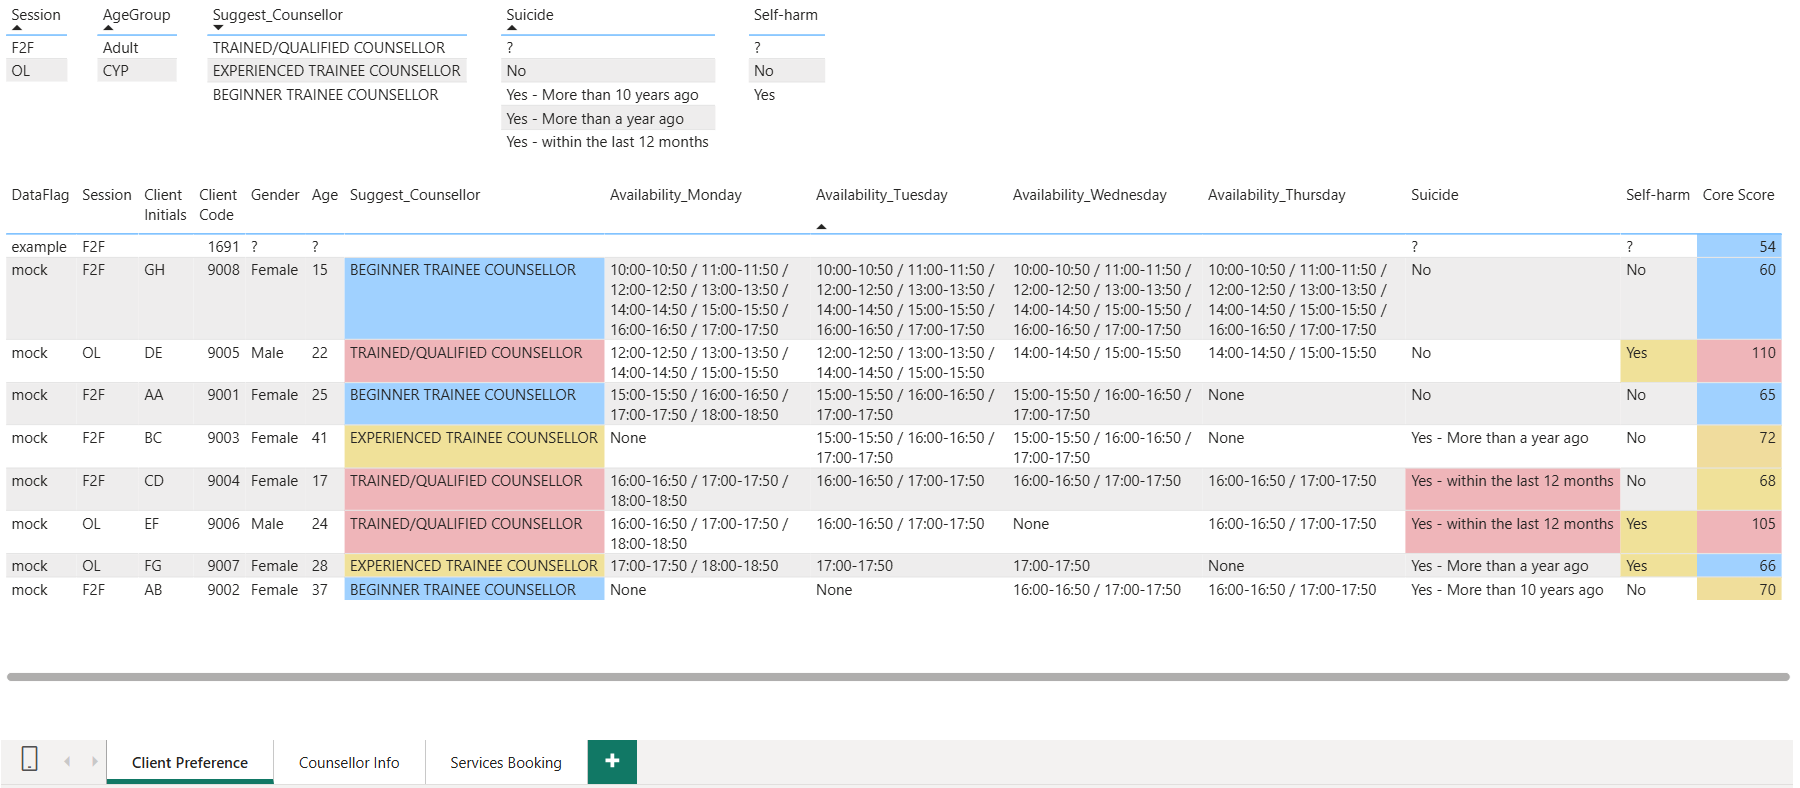

What the dashboard file says about the page in this screenshot:
{"tool":"powerbi","page":{"name":"Client Preference","canvas":[1280,720],"ordinal":0},"visuals":[{"type":"tableEx","fields":{"Values":["client.Session"]},"box":[0,0,91.9,112.5],"z":0},{"type":"tableEx","fields":{"Values":["client.AgeGroup"]},"box":[81,0,97.4,112.5],"z":1000},{"type":"tableEx","fields":{"Values":["client.Suggest_Counsellor"]},"box":[178.4,0,262.1,130.4],"z":2000},{"type":"tableEx","fields":{"Values":["client.DataFlag","client.Session","client.Client Initials","client.Client Code","client.Gender","client.Age","client.Suggest_Counsellor","client.Availability_Monday","client.Availability_Tuesday","client.Availability_Wednesday","client.Availability_Thursday","client.Suicide"]},"box":[0,112.5,1280.3,454.2],"z":3000},{"type":"tableEx","fields":{"Values":["client.Suicide"]},"box":[440.5,0,219.6,149.6],"z":4000},{"type":"tableEx","fields":{"Values":["client.Self-harm"]},"box":[660,0,100.2,112.5],"z":5000}]}

Visuals, with their boxes on the page's 1280x720 design canvas (x1, y1, x2, y2). These are canvas units, not pixel positions in the 1800x788 screenshot, which may show the page scaled, cropped or inside an application window:
tableEx - client.Session: {"left": 0, "top": 0, "right": 92, "bottom": 112}
tableEx - client.AgeGroup: {"left": 81, "top": 0, "right": 178, "bottom": 112}
tableEx - client.Suggest_Counsellor: {"left": 178, "top": 0, "right": 440, "bottom": 130}
tableEx - client.DataFlag x client.Session: {"left": 0, "top": 112, "right": 1280, "bottom": 567}
tableEx - client.Suicide: {"left": 440, "top": 0, "right": 660, "bottom": 150}
tableEx - client.Self-harm: {"left": 660, "top": 0, "right": 760, "bottom": 112}
